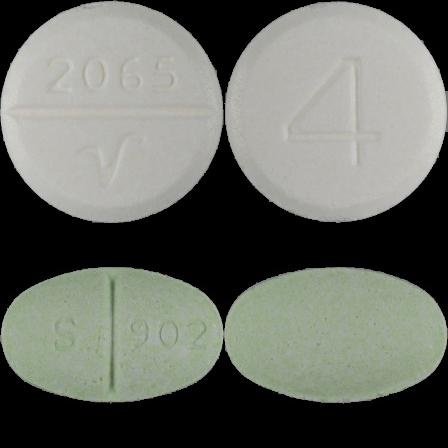33261-002: (0, 0, 224, 224)
